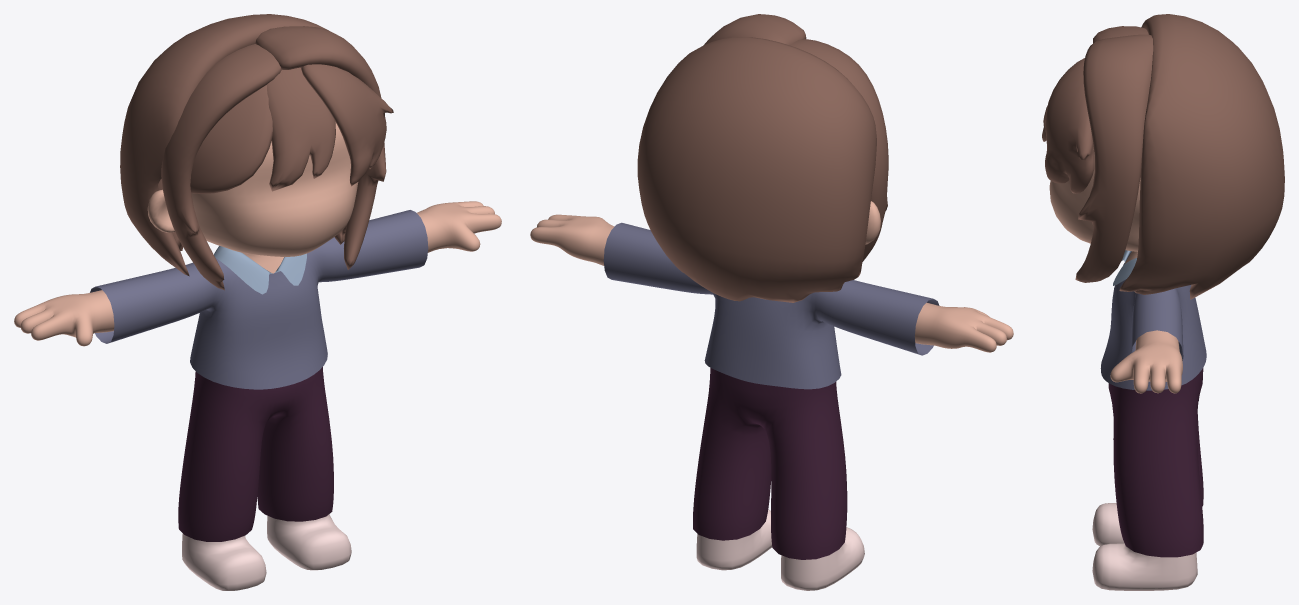
Rendered from Personaje_pijama.fbx.
3 renders of one model, left to right at view 1: azimuth 30°, elevation 25°; view 2: azimuth 150°, elevation 25°; view 3: azimuth 270°, elevation 25°, orthographic.
Visible parts, largest first — view 1: Blusa, Pantalon, Chibi, 6, 4, Medias, 1, 5, 3, 2; view 2: 6, Pantalon, Blusa, Chibi, Medias, 4, 5; view 3: 6, Pantalon, 5, Blusa, Chibi, Medias, 2, 4.
Boxes of the visible parts, bbox=[...] form: Blusa: bbox=[90, 210, 428, 389]; Pantalon: bbox=[178, 367, 333, 541]; Chibi: bbox=[14, 122, 501, 346]; 6: bbox=[120, 14, 346, 276]; 4: bbox=[161, 44, 281, 290]; Medias: bbox=[182, 514, 351, 590]; 1: bbox=[266, 67, 335, 191]; 5: bbox=[255, 26, 386, 269]; 3: bbox=[190, 85, 272, 193]; 2: bbox=[301, 64, 393, 186]; 6: bbox=[637, 37, 876, 302]; Pantalon: bbox=[693, 368, 847, 559]; Blusa: bbox=[603, 222, 939, 389]; Chibi: bbox=[530, 201, 1013, 352]; Medias: bbox=[696, 509, 864, 590]; 4: bbox=[790, 39, 888, 261]; 5: bbox=[703, 14, 806, 45]; 6: bbox=[1119, 14, 1284, 299]; Pantalon: bbox=[1108, 368, 1203, 557]; 5: bbox=[1075, 34, 1153, 282]; Blusa: bbox=[1100, 250, 1206, 390]; Chibi: bbox=[1049, 149, 1182, 393]; Medias: bbox=[1092, 503, 1197, 590]; 2: bbox=[1045, 58, 1094, 193]; 4: bbox=[1093, 26, 1148, 43].
Size of the model in its own units: 128 by 137 by 57.01.
